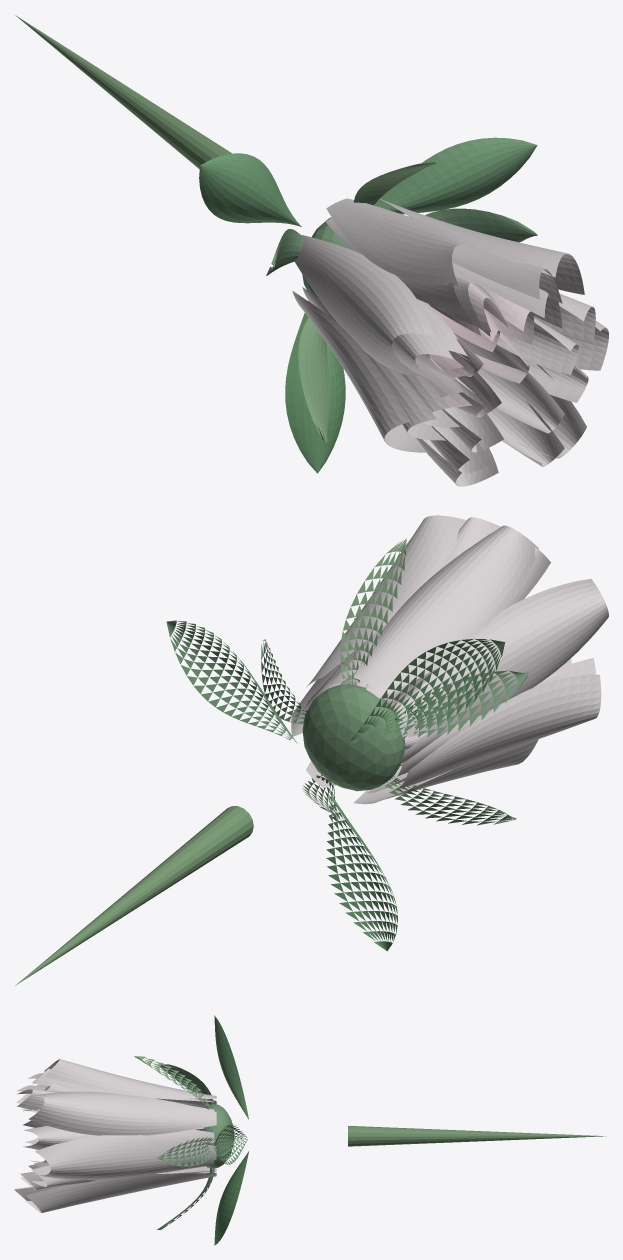
The model's file is umaira_3d_rosebud.glb.
The picture shows the model from 3 angles, top to bottom: view 1: azimuth 30°, elevation 25°; view 2: azimuth 150°, elevation 25°; view 3: azimuth 270°, elevation 25°; orthographic projection. The views are drawn at different scales.
Parts seen in each view (by area): view 1: rose_petal_4_3, rose_petal_4_2, leaf_0, leaf_1, rose_petal_4_4, stem, leaf_2, rose_petal_2_6, rose_petal_4_1, rose_petal_3_1, sepal_3, rose_petal_2_0 (+23 smaller); view 2: rose_petal_4_2, rose_petal_4_3, rose_petal_4_4, receptacle, stem, leaf_1, rose_petal_4_1, leaf_0, leaf_2, sepal_1, sepal_2, rose_petal_4_5 (+6 smaller); view 3: rose_petal_4_1, rose_petal_4_0, rose_petal_4_6, stem, rose_petal_4_2, rose_petal_3_0, leaf_1, leaf_2, receptacle, sepal_0, leaf_0, rose_petal_3_7 (+5 smaller).
Part boxes in pixels (x1,y1,x2,y2): rose_petal_4_3: (294, 235, 434, 376); rose_petal_4_2: (326, 198, 494, 285); leaf_0: (373, 137, 537, 214); leaf_1: (199, 153, 301, 226); rose_petal_4_4: (292, 291, 426, 452); stem: (15, 15, 231, 168); leaf_2: (285, 301, 345, 473); rose_petal_2_6: (453, 332, 564, 433); rose_petal_4_1: (380, 199, 584, 294); rose_petal_3_1: (452, 244, 562, 303); sepal_3: (298, 317, 330, 442); rose_petal_2_0: (497, 318, 578, 374); rose_petal_4_2: (353, 525, 538, 687); rose_petal_4_3: (399, 578, 608, 737); rose_petal_4_4: (399, 674, 601, 788); receptacle: (302, 684, 405, 791); stem: (15, 806, 253, 985); leaf_1: (350, 638, 505, 743); rose_petal_4_1: (306, 515, 466, 687); leaf_0: (166, 620, 297, 743); leaf_2: (326, 789, 397, 951); sepal_1: (340, 538, 406, 685); sepal_2: (393, 670, 529, 737); rose_petal_4_5: (354, 739, 538, 804); rose_petal_4_1: (28, 1091, 216, 1135); rose_petal_4_0: (35, 1135, 216, 1179); rose_petal_4_6: (26, 1173, 216, 1212); stem: (348, 1126, 606, 1146); rose_petal_4_2: (44, 1059, 216, 1098); rose_petal_3_0: (23, 1126, 214, 1149); leaf_1: (214, 1015, 248, 1119); leaf_2: (214, 1151, 248, 1245); receptacle: (196, 1104, 234, 1167); sepal_0: (157, 1137, 213, 1166); leaf_0: (214, 1123, 247, 1164); rose_petal_3_7: (31, 1160, 214, 1187).
Bounding box in the file's own units: 1.96 × 1.94 × 5.13.
